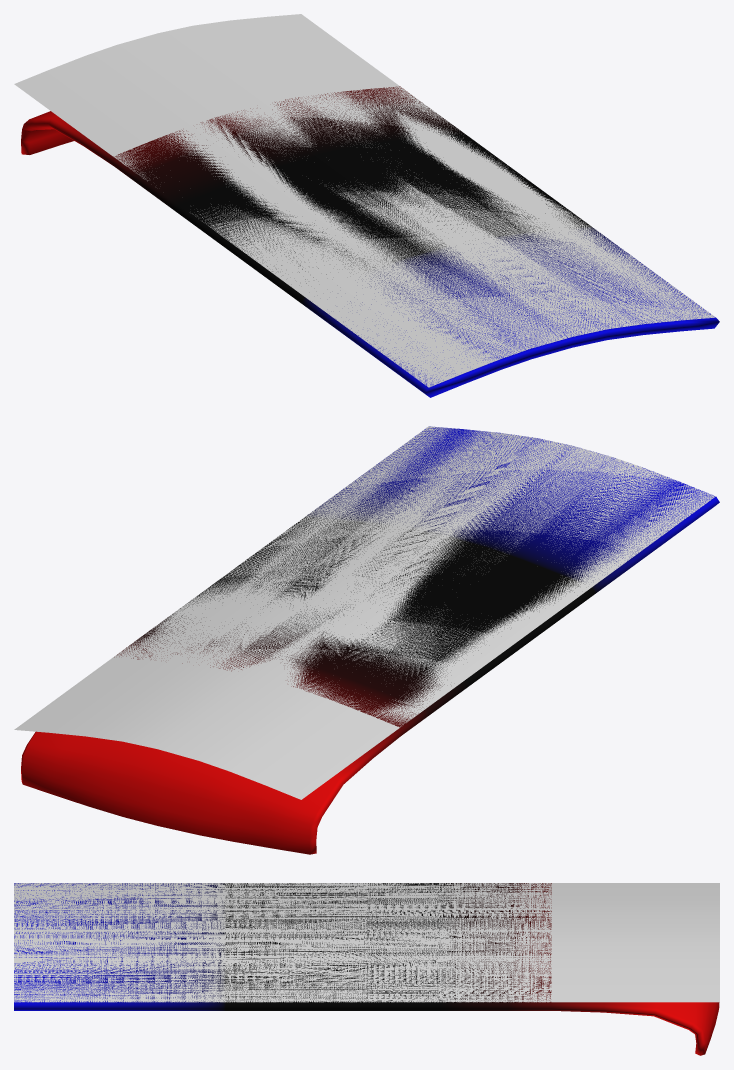
The model's file is VFX_Waterfalls.fbx.
3 renders of one model, top to bottom at view 1: azimuth 30°, elevation 25°; view 2: azimuth 150°, elevation 25°; view 3: azimuth 270°, elevation 25°, orthographic. The views are drawn at different scales.
Visible parts, largest first — view 1: VFX_WaterFlow, VFX_WaterFall; view 2: VFX_WaterFlow, VFX_WaterFall; view 3: VFX_WaterFlow, VFX_WaterFall.
Part boxes in pixels (box(x1,y1,x2,y2)): VFX_WaterFlow: box(14, 14, 715, 387); VFX_WaterFall: box(21, 86, 719, 397); VFX_WaterFlow: box(14, 426, 715, 799); VFX_WaterFall: box(21, 426, 719, 854); VFX_WaterFlow: box(14, 883, 719, 1002); VFX_WaterFall: box(14, 883, 719, 1055).
Bounding box in the file's own units: 4.11 × 1.04 × 10.
